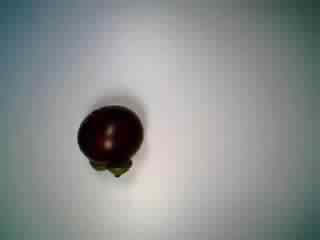mangosteen: (67, 101, 148, 178)
